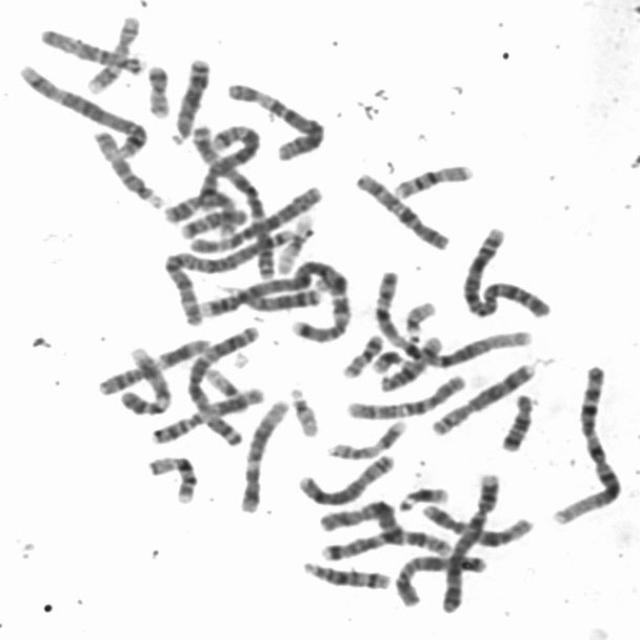A1: (366, 262, 537, 372), (544, 359, 623, 527)
A2: (159, 221, 299, 326), (452, 220, 554, 320)
A3: (187, 118, 279, 282), (179, 320, 261, 447)
B4: (433, 465, 504, 615), (192, 254, 352, 320)
B5: (11, 57, 150, 160), (192, 122, 266, 214)
C10: (347, 165, 453, 251), (340, 366, 471, 421)
C11: (90, 330, 214, 397), (146, 380, 268, 445)
C12: (232, 392, 290, 515), (414, 497, 534, 548)
C6: (180, 180, 325, 254), (221, 75, 328, 162)
C7: (278, 252, 356, 344), (314, 522, 454, 562)
C8: (423, 355, 539, 437), (289, 447, 397, 508)
C9: (153, 188, 243, 252), (114, 340, 174, 417)
D13: (161, 50, 213, 146), (218, 286, 323, 316)
D14: (372, 327, 446, 393), (294, 554, 394, 592)
D15: (86, 122, 166, 211), (34, 20, 147, 76)
E16: (385, 157, 476, 200), (139, 448, 199, 505)
E17: (79, 8, 143, 95), (321, 413, 411, 461)
E18: (494, 387, 537, 452), (180, 205, 256, 241)
F19: (269, 208, 318, 276), (198, 364, 247, 410)
F20: (335, 327, 386, 379), (140, 57, 174, 119)
G21: (392, 479, 452, 512), (366, 342, 406, 374)
G22: (283, 380, 322, 438), (398, 294, 438, 339)
X: (388, 546, 490, 609), (312, 494, 405, 543)
